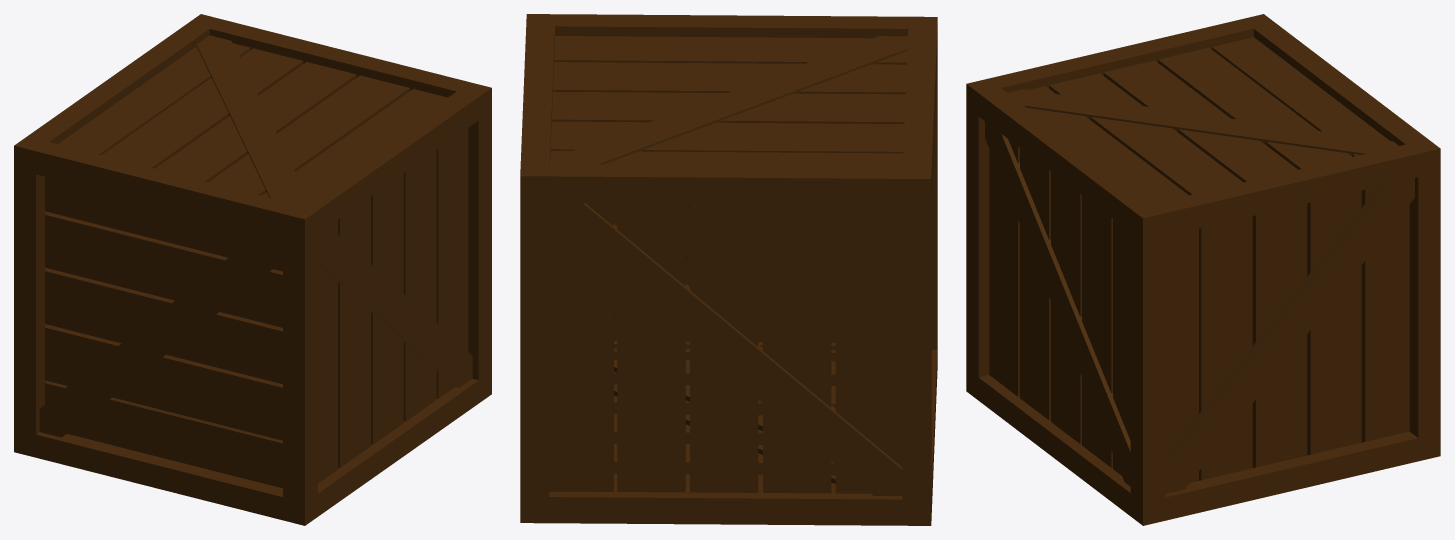
3 views of the same model, side by side, from view 1: azimuth 30°, elevation 25°; view 2: azimuth 150°, elevation 25°; view 3: azimuth 270°, elevation 25° (orthographic). The views are drawn at different scales.
Visible parts, largest first — view 1: Box.002; view 2: Box.002; view 3: Box.002.
Boxes of the visible parts, x1,y1,x2,y2 form: Box.002: (14,14,491,525); Box.002: (520,14,937,525); Box.002: (966,14,1440,525).
Size of the model in its own units: 81.23 by 56.95 by 79.65.
